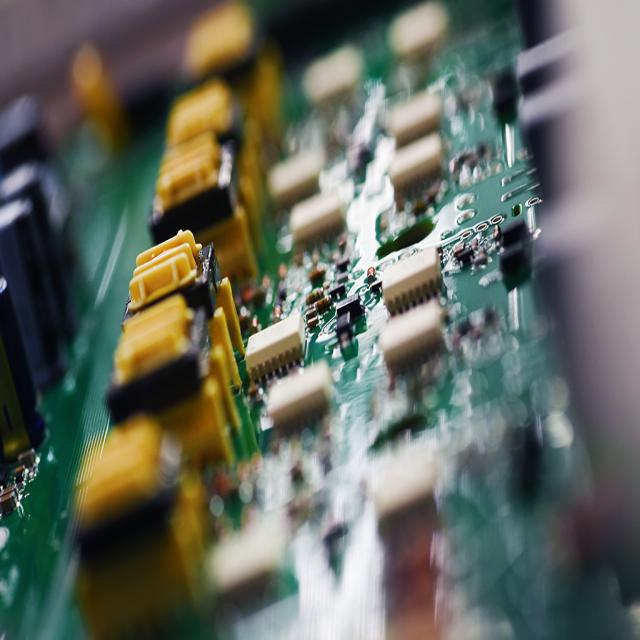pcb: (2, 1, 632, 637), (0, 156, 76, 392), (243, 311, 306, 382), (381, 244, 441, 315), (334, 292, 367, 360)
